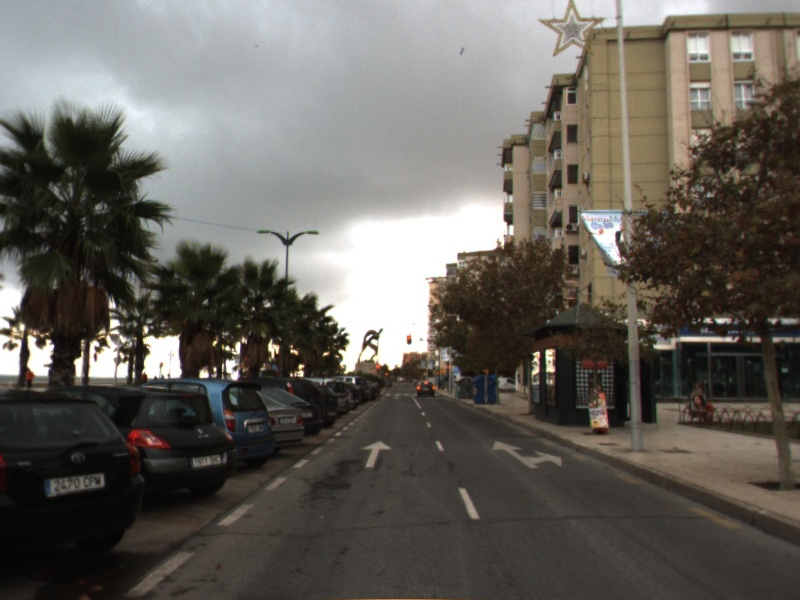STRAIGHT: (359, 439, 393, 469)
STRAIGHT_RIGHT: (491, 439, 563, 470)
